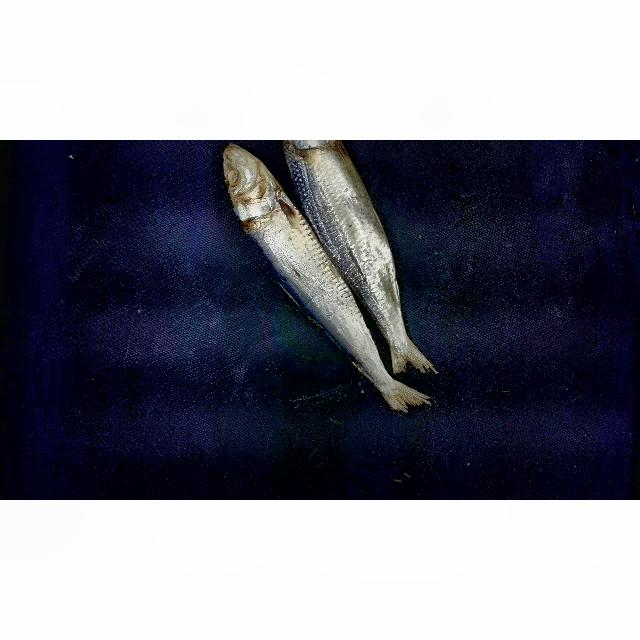Grade_A_Body: (293, 163, 429, 304), (242, 237, 377, 343)
Grade_A_Head: (212, 144, 288, 222)
Grade_A_Tail: (307, 328, 428, 427), (367, 312, 462, 388)
